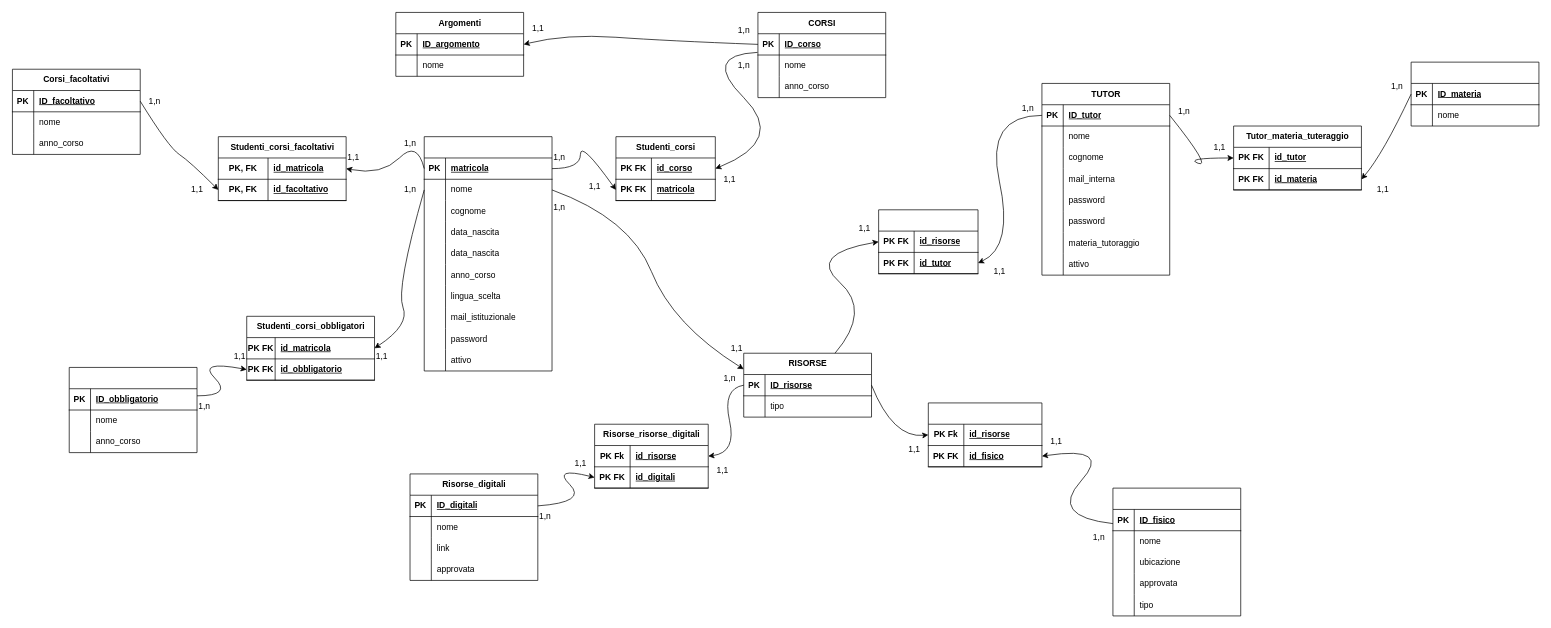
Some shapes in this 1551 by 628 pixel diagram are drawn without their labels. The shapes that lost their labels are listed below. From the top down, each one's box as (x1, y1, x2, y2) in pixels, then its label:
(1410, 61, 1539, 126): Materia_tuteraggio
(424, 136, 552, 371): STUDENTI
(878, 209, 978, 274): Risorse_tutor
(69, 367, 197, 453): Corsi_obbligatori
(928, 402, 1042, 467): Risorse_risorse_fisiche
(1112, 487, 1241, 616): Risorse_fisiche
